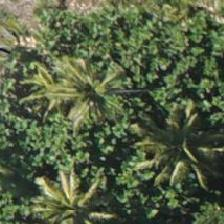coconut_tree: (49, 48, 139, 138), (134, 92, 223, 182), (29, 165, 119, 223)
